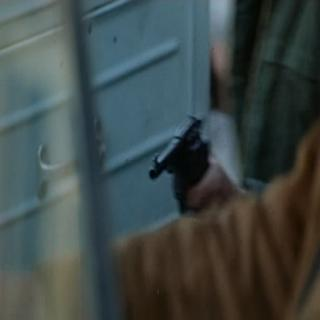gun: (153, 111, 226, 212)
